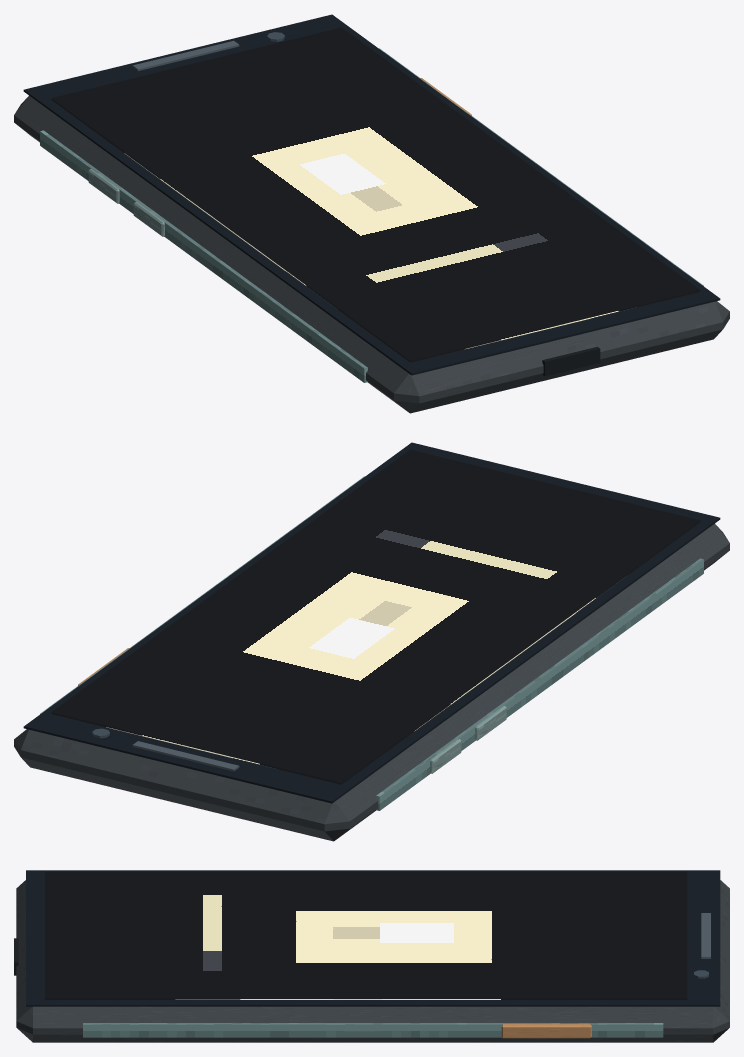
Rendered from smart_phone_flashlight.glb.
3 views of the same model, one above another, from view 1: azimuth 30°, elevation 25°; view 2: azimuth 150°, elevation 25°; view 3: azimuth 270°, elevation 25° (orthographic). The views are drawn at different scales.
Parts seen in each view (by area): view 1: block_screen, block_graphite bumper, block_black glass border, block_brushed rail -0.0365, block_USB charging socket, block_earpiece; view 2: block_screen, block_graphite bumper, block_black glass border, block_brushed rail -0.0365, block_earpiece; view 3: block_screen, block_graphite bumper, block_black glass border, block_brushed rail 0.0365, block_power, block_earpiece.
Boxes of the visible parts, bbox=[...] form: block_screen: bbox=[51, 27, 700, 362]; block_graphite bumper: bbox=[14, 95, 729, 413]; block_black glass border: bbox=[23, 14, 720, 375]; block_brushed rail -0.0365: bbox=[40, 130, 367, 382]; block_USB charging socket: bbox=[542, 346, 600, 376]; block_earpiece: bbox=[132, 40, 239, 70]; block_screen: bbox=[51, 449, 700, 784]; block_graphite bumper: bbox=[14, 523, 729, 841]; block_black glass border: bbox=[23, 442, 720, 803]; block_brushed rail -0.0365: bbox=[376, 558, 703, 810]; block_earpiece: bbox=[132, 741, 239, 771]; block_screen: bbox=[45, 871, 687, 999]; block_graphite bumper: bbox=[16, 880, 729, 1042]; block_black glass border: bbox=[26, 870, 720, 1006]; block_brushed rail 0.0365: bbox=[83, 1023, 663, 1037]; block_power: bbox=[501, 1024, 591, 1038]; block_earpiece: bbox=[701, 913, 710, 958].
Size of the model in its own units: 0.075 by 0.0096 by 0.1505.
2 materials, 2 textured.
